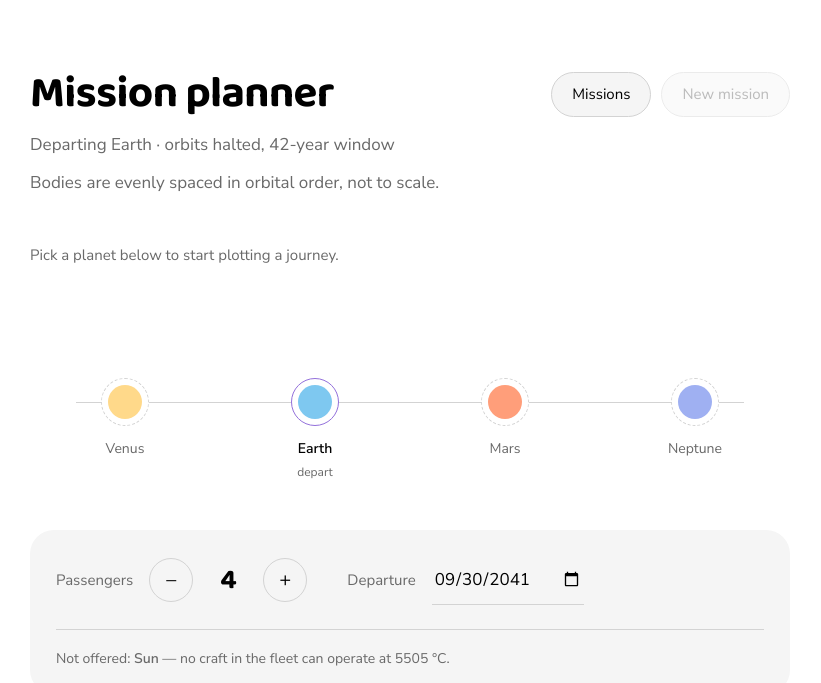
Test case: planner screen › a craft already committed elsewhere › is marked in the fleet list rather than hidden from it
Click the button "Mars": (505, 426) [410,370,600,482]
(page scrolled)
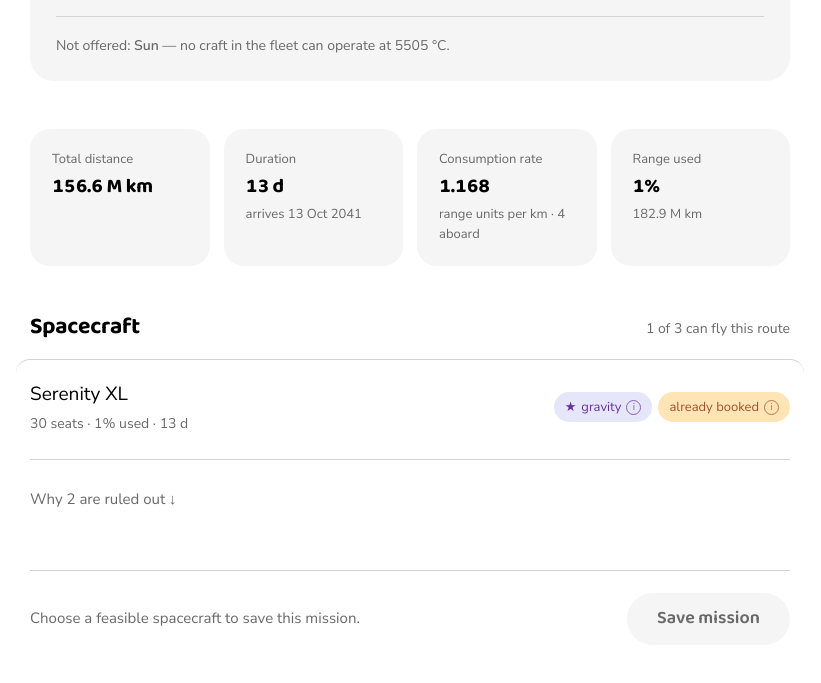
expect the text "Serenity XL" is shown: met, box [30,381,128,407]
expect the button "Serenity XL" is shown: met, box [16,359,804,455]
expect the text "already booked i" is shown: met, box [658,392,790,422]
